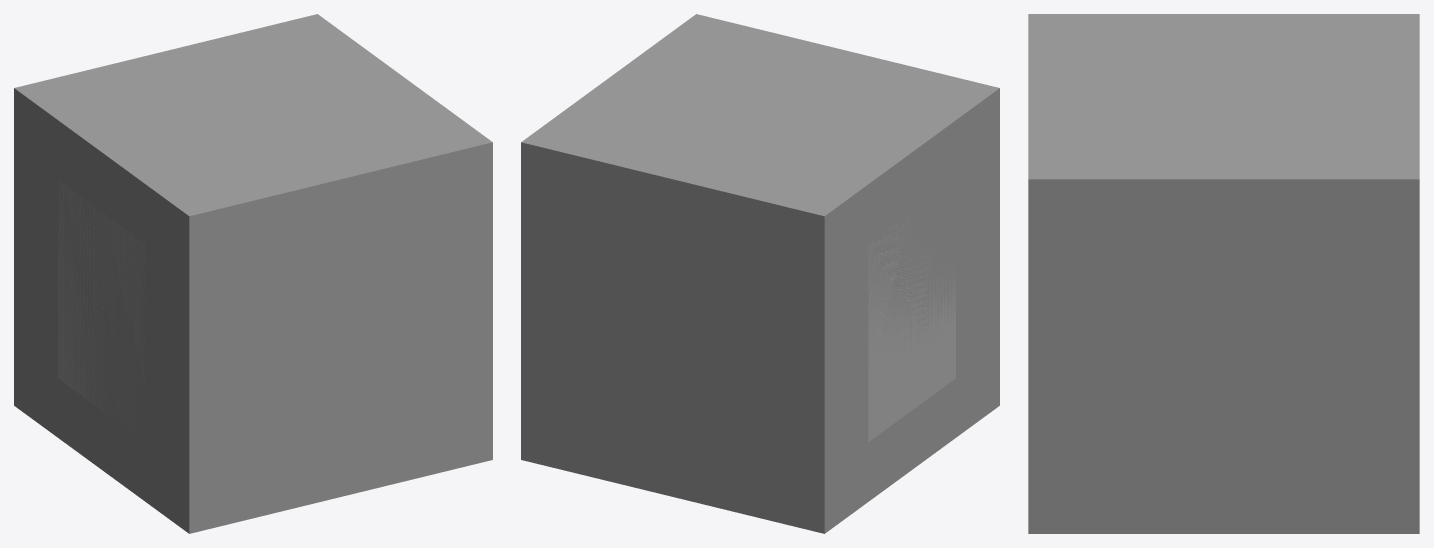
File: alarmmedium.obj
3 views of the same model, side by side, from view 1: azimuth 30°, elevation 25°; view 2: azimuth 150°, elevation 25°; view 3: azimuth 270°, elevation 25° (orthographic). The views are drawn at different scales.
Visible parts, largest first — view 1: Minecraft_Block_Cube, main; view 2: Minecraft_Block_Cube, main; view 3: Minecraft_Block_Cube.
Boxes of the visible parts, left/top/right/bottom form: Minecraft_Block_Cube: left=14, top=14, right=492, bottom=533; main: left=58, top=181, right=145, bottom=437; Minecraft_Block_Cube: left=521, top=14, right=999, bottom=533; main: left=868, top=217, right=955, bottom=441; Minecraft_Block_Cube: left=1028, top=14, right=1419, bottom=533.
Bounding box in the file's own units: 1 × 1 × 1.
Materials: 2 (1 with a texture image).
